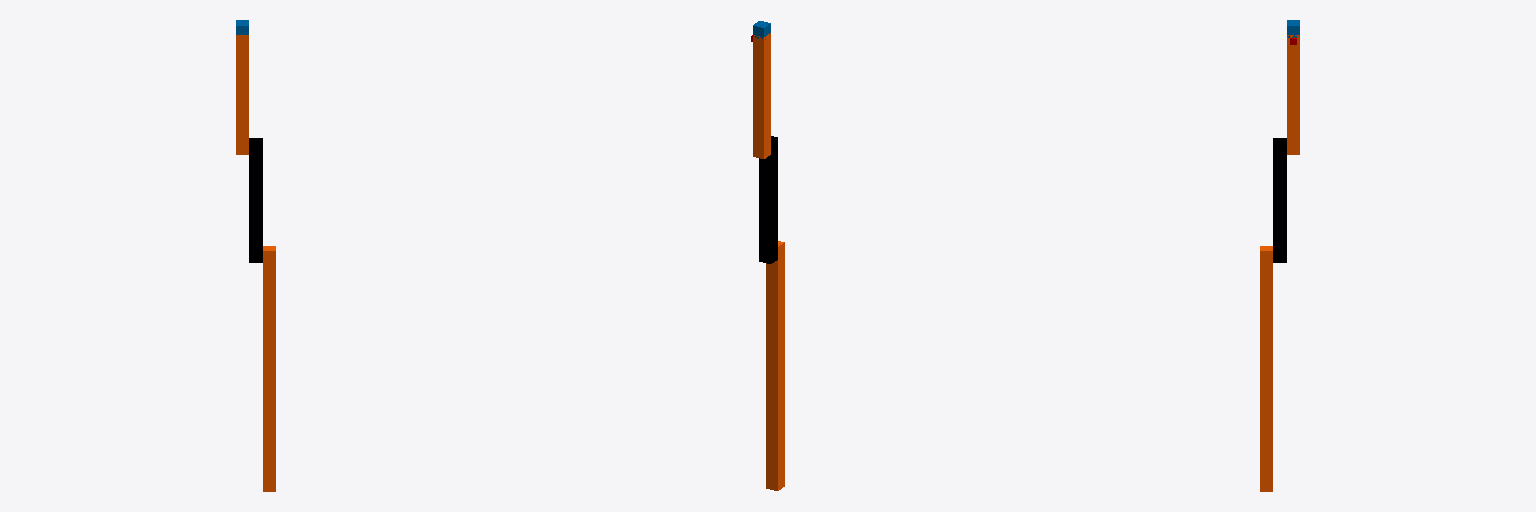
robot.urdf — RRbot:
<?xml version="1.0" ?>
<!-- =================================================================================== -->
<!-- |    This file was generated from rrbot_description (Gazebo RRBot full example)   | -->
<!-- =================================================================================== -->
<robot name="RRbot" xmlns:xacro="http://www.ros.org/wiki/xacro">
  <!-- Import your models -->
  <material name="RRBOT/black">
    <color rgba="0.0 0.0 0.0 1.0"/>
  </material>
  <material name="RRBOT/blue">
    <color rgba="0.0 0.0 0.8 1.0"/>
  </material>
  <material name="RRBOT/green">
    <color rgba="0.0 0.8 0.0 1.0"/>
  </material>
  <material name="RRBOT/grey">
    <color rgba="0.2 0.2 0.2 1.0"/>
  </material>
  <material name="RRBOT/orange">
    <color rgba="1.0 0.423529411765 0.0392156862745 1.0"/>
  </material>
  <material name="RRBOT/brown">
    <color rgba="0.870588235294 0.811764705882 0.764705882353 1.0"/>
  </material>
  <material name="RRBOT/red">
    <color rgba="0.8 0.0 0.0 1.0"/>
  </material>
  <material name="RRBOT/white">
    <color rgba="1.0 1.0 1.0 1.0"/>
  </material>
  <!-- Build your comprehensive robot -->
  <link name="world">
    <inertial>
      <origin rpy="0 0 0" xyz="0 0 0"/>
      <mass value="1000"/>
      <inertia ixx="1000.0" ixy="0.0" ixz="0.0" iyy="1000.0" iyz="0.0" izz="1000.0"/>
    </inertial>
  </link>
  <gazebo reference="world">
    <static>true</static>
  </gazebo>
  <joint name="RRbot_fixed" type="fixed">
    <origin rpy="0 0 0" xyz="0 0 0"/>
    <parent link="world"/>
    <child link="RRbot_link1"/>
  </joint>
  <link name="RRbot_link1">
    <collision>
      <origin rpy="0 0 0" xyz="0 0 1.0"/>
      <geometry>
        <box size="0.1 0.1 2"/>
      </geometry>
    </collision>
    <visual>
      <origin rpy="0 0 0" xyz="0 0 1.0"/>
      <geometry>
        <box size="0.1 0.1 2"/>
      </geometry>
      <material name="RRBOT/orange"/>
    </visual>
    <inertial>
      <origin rpy="0 0 0" xyz="0 0 1.0"/>
      <mass value="1"/>
      <inertia ixx="1.0" ixy="0.0" ixz="0.0" iyy="1.0" iyz="0.0" izz="1.0"/>
    </inertial>
  </link>
  <joint name="RRbot_joint1" type="revolute">
    <parent link="RRbot_link1"/>
    <child link="RRbot_link2"/>
    <origin rpy="0 0 0" xyz="0 0.1 1.95"/>
    <axis xyz="0 1 0"/>
    <dynamics damping="0.7"/>
  </joint>
  <link name="RRbot_link2">
    <collision>
      <origin rpy="0 0 0" xyz="0 0 0.45"/>
      <geometry>
        <box size="0.1 0.1 1"/>
      </geometry>
    </collision>
    <visual>
      <origin rpy="0 0 0" xyz="0 0 0.45"/>
      <geometry>
        <box size="0.1 0.1 1"/>
      </geometry>
      <material name="RRBOT/black"/>
    </visual>
    <inertial>
      <origin rpy="0 0 0" xyz="0 0 0.45"/>
      <mass value="1"/>
      <inertia ixx="1.0" ixy="0.0" ixz="0.0" iyy="1.0" iyz="0.0" izz="1.0"/>
    </inertial>
  </link>
  <joint name="RRbot_joint2" type="revolute">
    <parent link="RRbot_link2"/>
    <child link="RRbot_link3"/>
    <origin rpy="0 0 0" xyz="0 0.1 0.9"/>
    <axis xyz="0 1 0"/>
    <dynamics damping="0.7"/>
  </joint>
  <link name="RRbot_link3">
    <collision>
      <origin rpy="0 0 0" xyz="0 0 0.45"/>
      <geometry>
        <box size="0.1 0.1 1"/>
      </geometry>
    </collision>
    <visual>
      <origin rpy="0 0 0" xyz="0 0 0.45"/>
      <geometry>
        <box size="0.1 0.1 1"/>
      </geometry>
      <material name="RRBOT/orange"/>
    </visual>
    <inertial>
      <origin rpy="0 0 0" xyz="0 0 0.45"/>
      <mass value="1"/>
      <inertia ixx="1.0" ixy="0.0" ixz="0.0" iyy="1.0" iyz="0.0" izz="1.0"/>
    </inertial>
  </link>
  <joint name="RRbot_hokuyo_joint" type="fixed">
    <axis xyz="0 1 0"/>
    <origin rpy="0 0 0" xyz="0 0 0.975"/>
    <parent link="RRbot_link3"/>
    <child link="RRbot_hokuyo_link"/>
  </joint>
  <link name="RRbot_hokuyo_link">
    <collision>
      <origin rpy="0 0 0" xyz="0 0 0"/>
      <geometry>
        <box size="0.1 0.1 0.1"/>
      </geometry>
    </collision>
    <visual>
      <origin rpy="0 0 0" xyz="0 0 0"/>
      <geometry>
        <box size="0.1 0.1 0.1"/>
      </geometry>
    </visual>
    <inertial>
      <mass value="1e-5"/>
      <origin rpy="0 0 0" xyz="0 0 0"/>
      <inertia ixx="1e-6" ixy="0" ixz="0" iyy="1e-6" iyz="0" izz="1e-6"/>
    </inertial>
  </link>
  <joint name="RRbot_camera_joint" type="fixed">
    <axis xyz="0 1 0"/>
    <origin rpy="0 0 0" xyz="0.05 0 0.9"/>
    <parent link="RRbot_link3"/>
    <child link="RRbot_camera_link"/>
  </joint>
  <link name="RRbot_camera_link">
    <collision>
      <origin rpy="0 0 0" xyz="0 0 0"/>
      <geometry>
        <box size="0.05 0.05 0.05"/>
      </geometry>
    </collision>
    <visual>
      <origin rpy="0 0 0" xyz="0 0 0"/>
      <geometry>
        <box size="0.05 0.05 0.05"/>
      </geometry>
      <material name="RRBOT/red"/>
    </visual>
    <inertial>
      <mass value="1e-5"/>
      <origin rpy="0 0 0" xyz="0 0 0"/>
      <inertia ixx="1e-6" ixy="0" ixz="0" iyy="1e-6" iyz="0" izz="1e-6"/>
    </inertial>
  </link>
  <transmission name="RRbot_tran1">
    <type>transmission_interface/SimpleTransmission</type>
    <joint name="RRbot_joint1">
      <hardwareInterface>PositionJointInterface</hardwareInterface>
    </joint>
    <actuator name="RRbot_motor1">
      <mechanicalReduction>1</mechanicalReduction>
    </actuator>
  </transmission>
  <transmission name="RRbot_tran2">
    <type>transmission_interface/SimpleTransmission</type>
    <joint name="RRbot_joint2">
      <hardwareInterface>PositionJointInterface</hardwareInterface>
    </joint>
    <actuator name="RRbot_motor2">
      <mechanicalReduction>1</mechanicalReduction>
    </actuator>
  </transmission>
  <gazebo>
    <plugin filename="librrbot_hw_sim_plugin.so" name="RRbot_hw_sim_plugin">
      <robotNamespace>RRbot</robotNamespace>
      <!-- add your custom sim behavior -->
      <robotSimType>rrbot_hw/DefaultRRBOTHWSim</robotSimType>
    </plugin>
  </gazebo>
  <gazebo reference="RRbot_link1">
    <material>Gazebo/Orange</material>
  </gazebo>
  <gazebo reference="RRbot_link2">
    <mu1>0.2</mu1>
    <mu2>0.2</mu2>
    <material>Gazebo/Black</material>
  </gazebo>
  <gazebo reference="RRbot_link3">
    <mu1>0.2</mu1>
    <mu2>0.2</mu2>
    <material>Gazebo/Orange</material>
  </gazebo>
  <gazebo reference="RRbot_camera_link">
    <mu1>0.2</mu1>
    <mu2>0.2</mu2>
    <material>Gazebo/Red</material>
  </gazebo>
  <gazebo reference="RRbot_hokuyo_link">
    <sensor name="head_hokuyo_sensor" type="gpu_ray">
      <pose>0 0 0 0 0 0</pose>
      <visualize>false</visualize>
      <update_rate>40</update_rate>
      <ray>
        <scan>
          <horizontal>
            <samples>720</samples>
            <resolution>1</resolution>
            <min_angle>-1.570796</min_angle>
            <max_angle>1.570796</max_angle>
          </horizontal>
        </scan>
        <range>
          <min>0.10</min>
          <max>30.0</max>
          <resolution>0.01</resolution>
        </range>
        <noise>
          <type>gaussian</type>
          <!-- Noise parameters based on published spec for Hokuyo laser
                 achieving "+-30mm" accuracy at range < 10m.  A mean of 0.0m and
                 stddev of 0.01m will put 99.7% of samples within 0.03m of the true
                 reading. -->
          <mean>0.0</mean>
          <stddev>0.01</stddev>
        </noise>
      </ray>
      <plugin filename="libgazebo_ros_gpu_laser.so" name="RRbot_gazebo_ros_head_hokuyo_controller">
        <!-- Publish within the robot namespace -->
        <robotNamespace>RRbot</robotNamespace>
        <topicName>laser/scan</topicName>
        <frameName>RRbot_hokuyo_link</frameName>
      </plugin>
    </sensor>
  </gazebo>
  <gazebo reference="RRbot_camera_link">
    <sensor name="camera1" type="camera">
      <update_rate>30.0</update_rate>
      <camera name="RRbot_head">
        <horizontal_fov>1.3962634</horizontal_fov>
        <image>
          <width>800</width>
          <height>800</height>
          <format>R8G8B8</format>
        </image>
        <clip>
          <near>0.02</near>
          <far>300</far>
        </clip>
        <noise>
          <type>gaussian</type>
          <!-- Noise is sampled independently per pixel on each frame.
                 That pixel's noise value is added to each of its color
                 channels, which at that point lie in the range [0,1]. -->
          <mean>0.0</mean>
          <stddev>0.007</stddev>
        </noise>
      </camera>
      <plugin filename="libgazebo_ros_camera.so" name="RRbot_camera_controller">
        <alwaysOn>true</alwaysOn>
        <updateRate>0.0</updateRate>
        <robotNamespace>RRbot</robotNamespace>
        <cameraName>RRbot_camera1</cameraName>
        <imageTopicName>image_raw</imageTopicName>
        <cameraInfoTopicName>camera_info</cameraInfoTopicName>
        <frameName>RRbot_camera_link</frameName>
        <hackBaseline>0.07</hackBaseline>
        <distortionK1>0.0</distortionK1>
        <distortionK2>0.0</distortionK2>
        <distortionK3>0.0</distortionK3>
        <distortionT1>0.0</distortionT1>
        <distortionT2>0.0</distortionT2>
      </plugin>
    </sensor>
  </gazebo>
</robot>

--- Facts derived from the render (not from the file) ---
3 views of the same robot in one strip: view 1: azimuth 90°, elevation 25°; view 2: azimuth 150°, elevation 25°; view 3: azimuth 270°, elevation 25° (orthographic).
Model RRbot with 6 links and 5 joints (2 revolute, 3 fixed), rooted at world, posed every joint at zero.
Visible links, largest first — view 1: RRbot_link1, RRbot_link2, RRbot_link3; view 2: RRbot_link1, RRbot_link3, RRbot_link2; view 3: RRbot_link1, RRbot_link2, RRbot_link3.
Link boxes in pixels (x1,y1,x2,y2): RRbot_link1: (263, 246, 275, 491); RRbot_link2: (249, 138, 262, 262); RRbot_link3: (236, 35, 248, 154); RRbot_link1: (766, 241, 784, 490); RRbot_link3: (753, 33, 770, 158); RRbot_link2: (759, 136, 777, 263); RRbot_link1: (1260, 246, 1272, 491); RRbot_link2: (1273, 138, 1286, 262); RRbot_link3: (1287, 35, 1299, 154).
Bounding box of the posed robot: 0.125 × 0.3 × 3.88 m (x, y, z).
Geometry: primitives only (box / cylinder / sphere), no mesh files.
